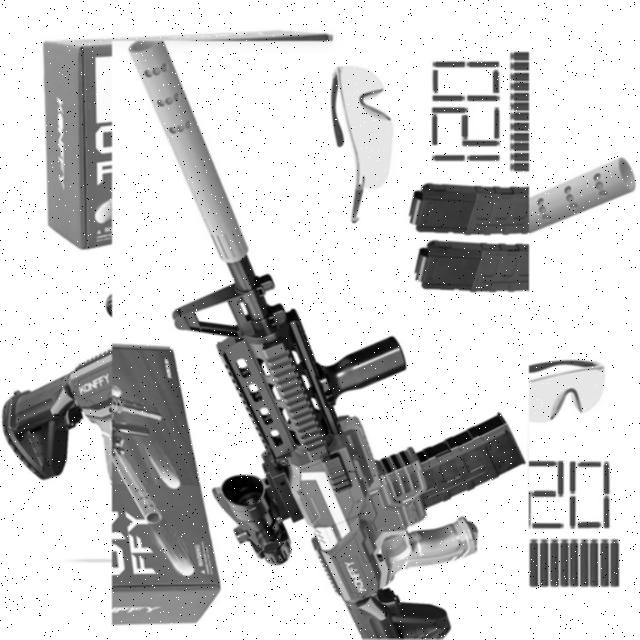weapon: (62, 91, 579, 608)
